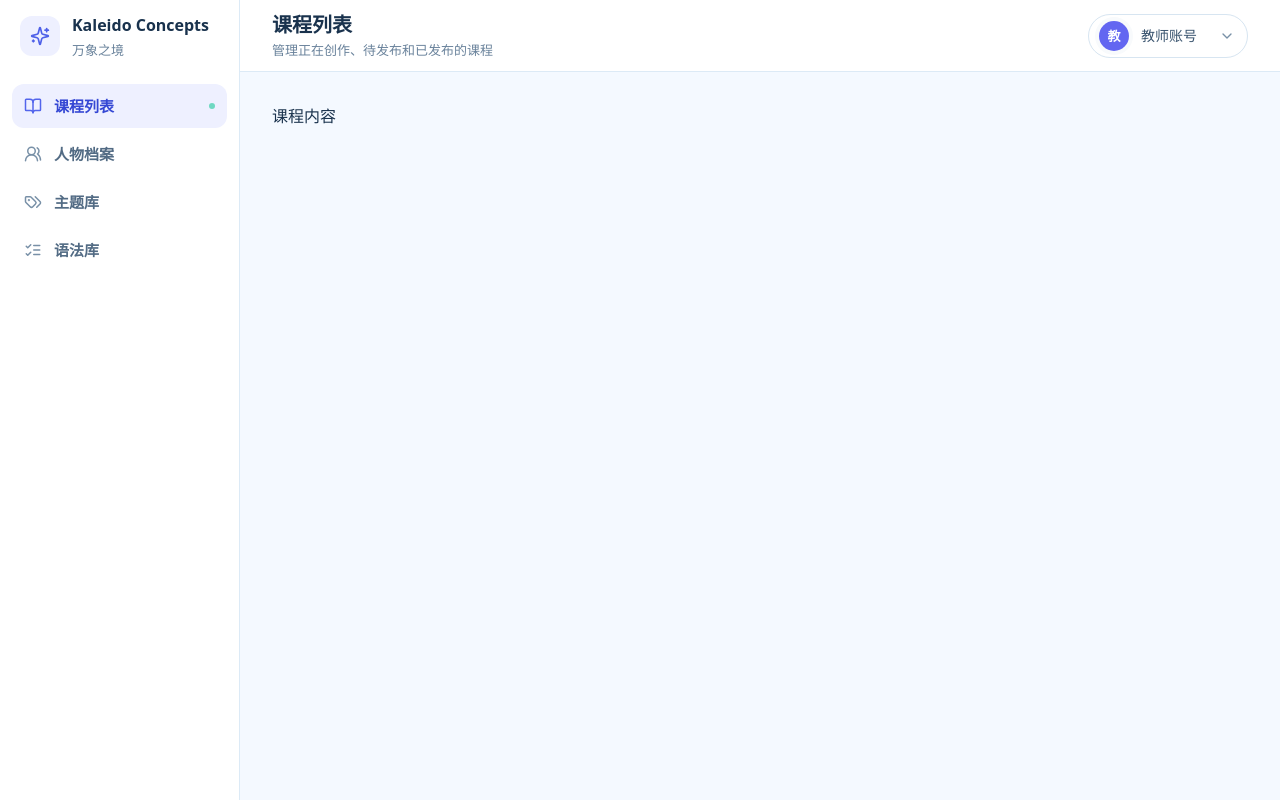
Scenario: AppShell account menu › keeps default choices hidden and offers recovery when advanced settings fail to load
Step 1. Click the button with aria-label "用户菜单" → (1168, 36), box [1088,14,1248,58]
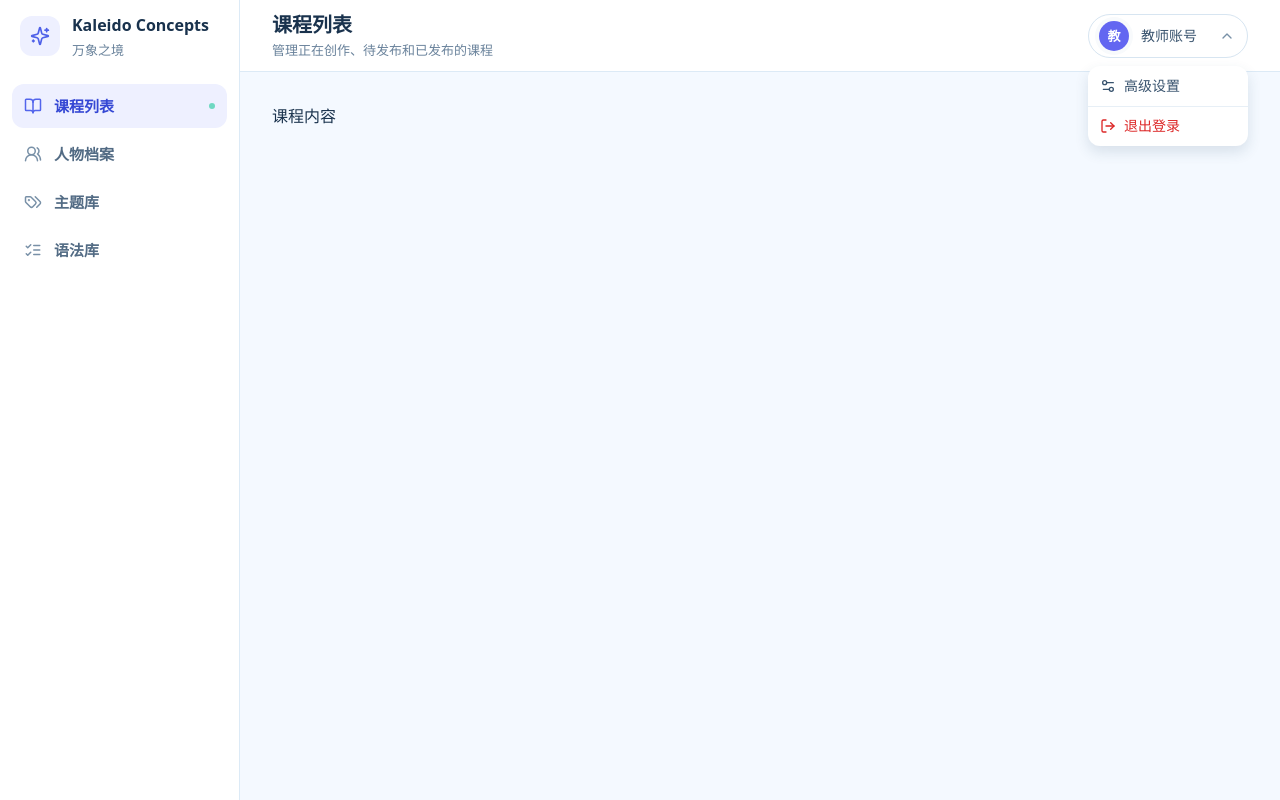
Step 2. Click the button "高级设置" → (1168, 86), box [1088,66,1248,106]
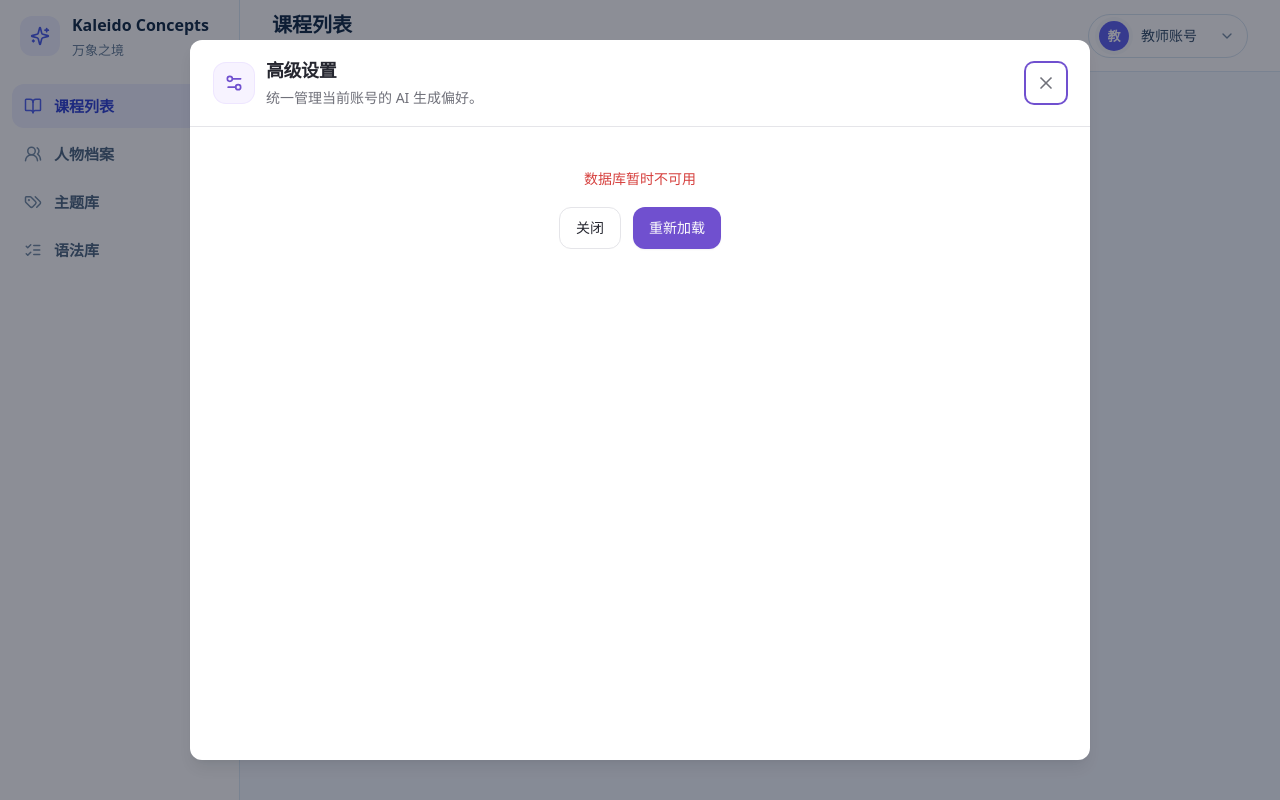
Now the message reads "数据库暂时不可用", box [584,169,696,188]
Now the button "重新加载" is enabled, box [633,207,721,249]
